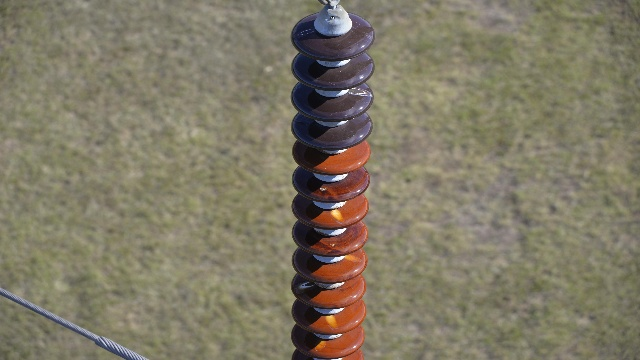insulator_unspecified: (289, 11, 375, 359)
pollution_flashover_local: (325, 311, 340, 334), (348, 86, 375, 98), (333, 206, 349, 225), (344, 252, 364, 267), (311, 339, 328, 352), (301, 279, 317, 288)
